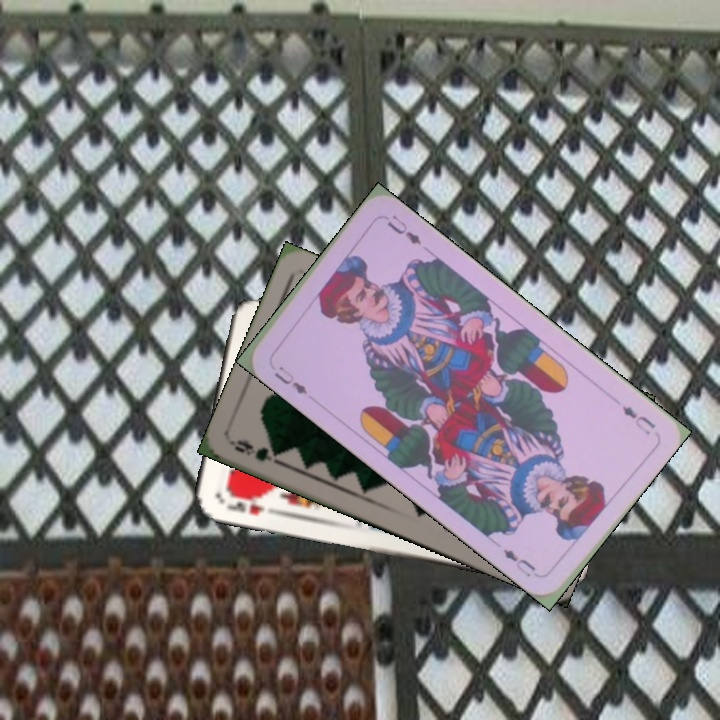EU: (270, 362, 310, 398), (618, 401, 658, 437)
G9: (227, 436, 284, 468)
HK: (220, 488, 276, 518)
